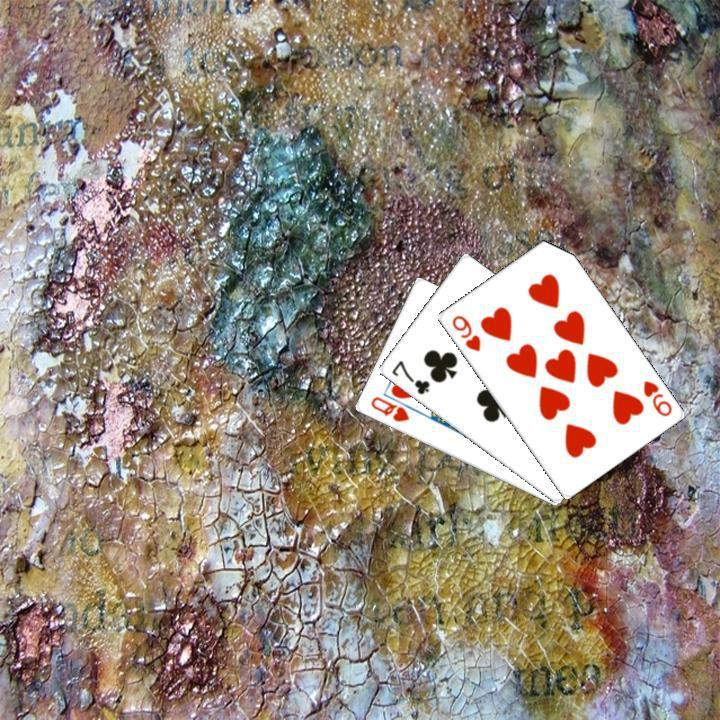7: (387, 356, 432, 397)
9: (638, 376, 674, 418), (447, 310, 482, 353)
Q: (366, 392, 411, 424)
